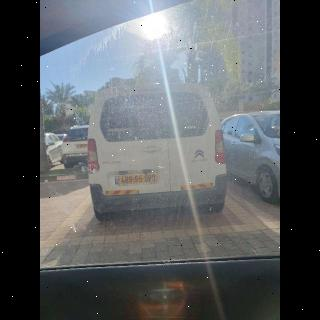LicensePlate: (119, 173, 159, 185)
